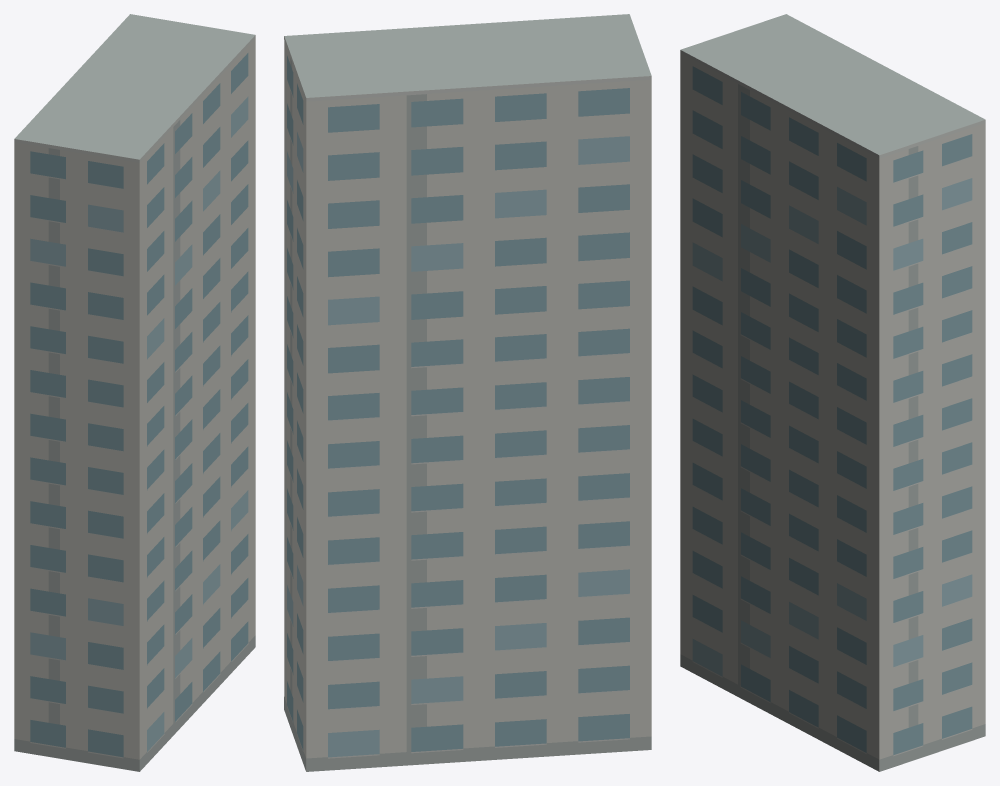
File: residential-ae947880-a498-4fe2-ae73-81655dd59792.glb
3 views of the same model, side by side, from view 1: azimuth 30°, elevation 25°; view 2: azimuth 150°, elevation 25°; view 3: azimuth 270°, elevation 25° (orthographic). The views are drawn at different scales.
Visible parts, largest first — view 1: residential-ae947880-a498-4fe2-ae73-81655dd59792.tmp; view 2: residential-ae947880-a498-4fe2-ae73-81655dd59792.tmp; view 3: residential-ae947880-a498-4fe2-ae73-81655dd59792.tmp.
Part boxes in pixels (x1,y1,x2,y2): residential-ae947880-a498-4fe2-ae73-81655dd59792.tmp: (14,14,255,771); residential-ae947880-a498-4fe2-ae73-81655dd59792.tmp: (284,14,651,771); residential-ae947880-a498-4fe2-ae73-81655dd59792.tmp: (680,14,985,771).
Bounding box in the file's own units: 21.15 × 43 × 19.31.
